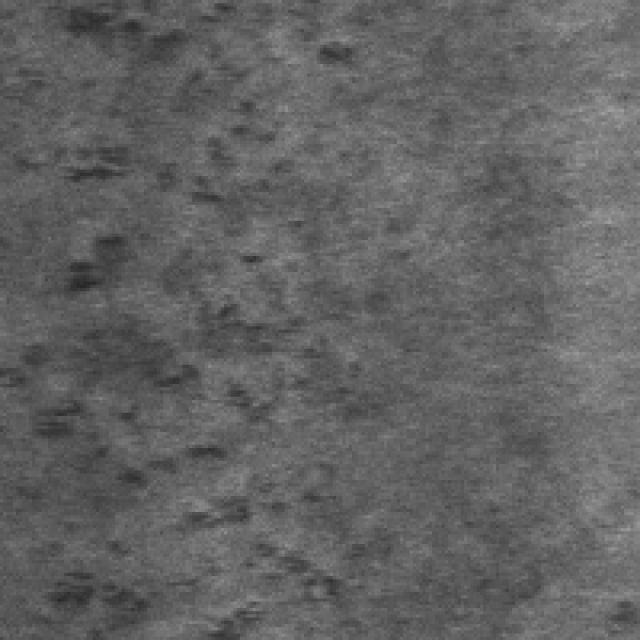rolled-in_scale: (6, 217, 320, 634), (44, 0, 275, 246)
